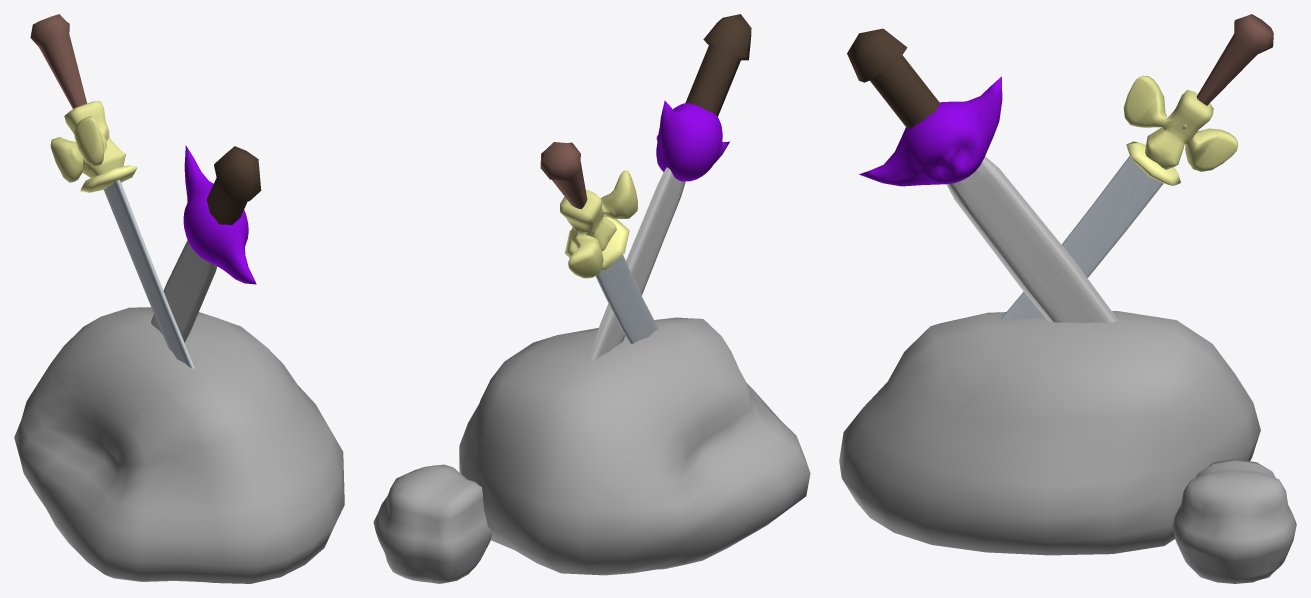
Rendered from SwordsInRock.fbx.
The picture shows the model from 3 angles, left to right: view 1: azimuth 30°, elevation 25°; view 2: azimuth 150°, elevation 25°; view 3: azimuth 270°, elevation 25°; orthographic projection. The views are drawn at different scales.
Parts seen in each view (by area): view 1: BiggerRock, Katana1, demonSword1; view 2: BiggerRock, demonSword1, SmallerRock:Mesh, Katana1; view 3: BiggerRock, demonSword1, Katana1, SmallerRock:Mesh.
Part boxes in pixels (x1,y1,x2,y2): BiggerRock: (14,307,344,583); Katana1: (30,14,194,368); demonSword1: (151,145,261,342); BiggerRock: (459,317,810,575); demonSword1: (586,14,751,361); SmallerRock:Mesh: (373,464,491,583); Katana1: (540,142,658,343); BiggerRock: (839,311,1260,555); demonSword1: (847,28,1118,322); Katana1: (1001,14,1273,319); SmallerRock:Mesh: (1172,459,1296,583).
Size of the model in its own units: 6.27 by 9.63 by 8.28.
